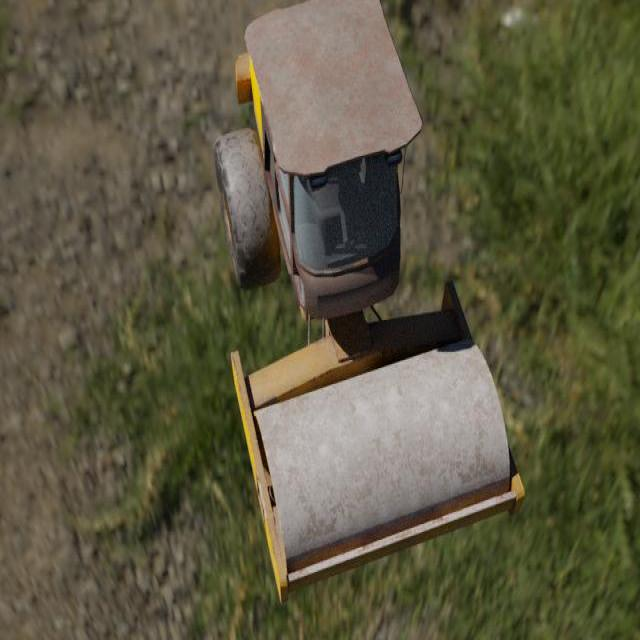Roller: (213, 0, 525, 604)
